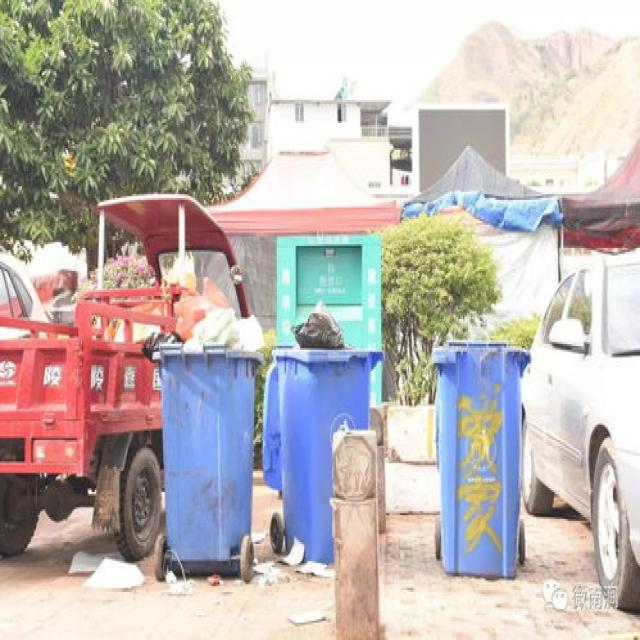garbage_bin: (431, 336, 532, 578)
overflow: (146, 300, 262, 582), (265, 314, 381, 560)
